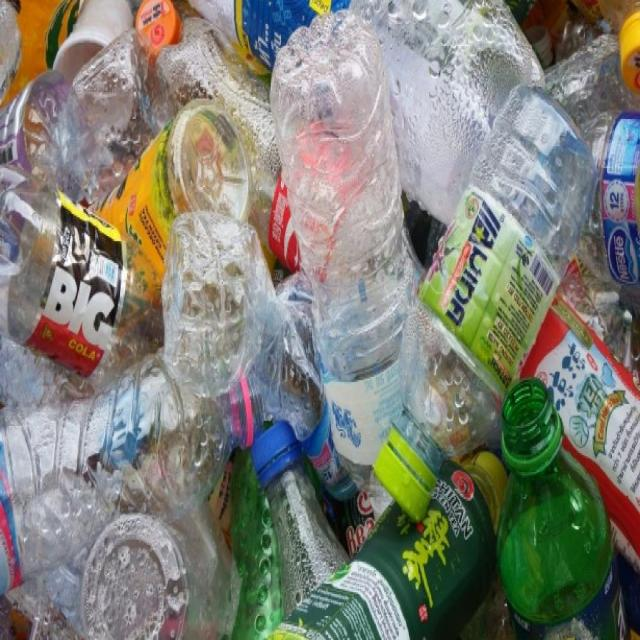plastic_bottle: (363, 77, 604, 525), (260, 7, 430, 463), (0, 347, 271, 618), (487, 350, 639, 639), (0, 141, 168, 383)
